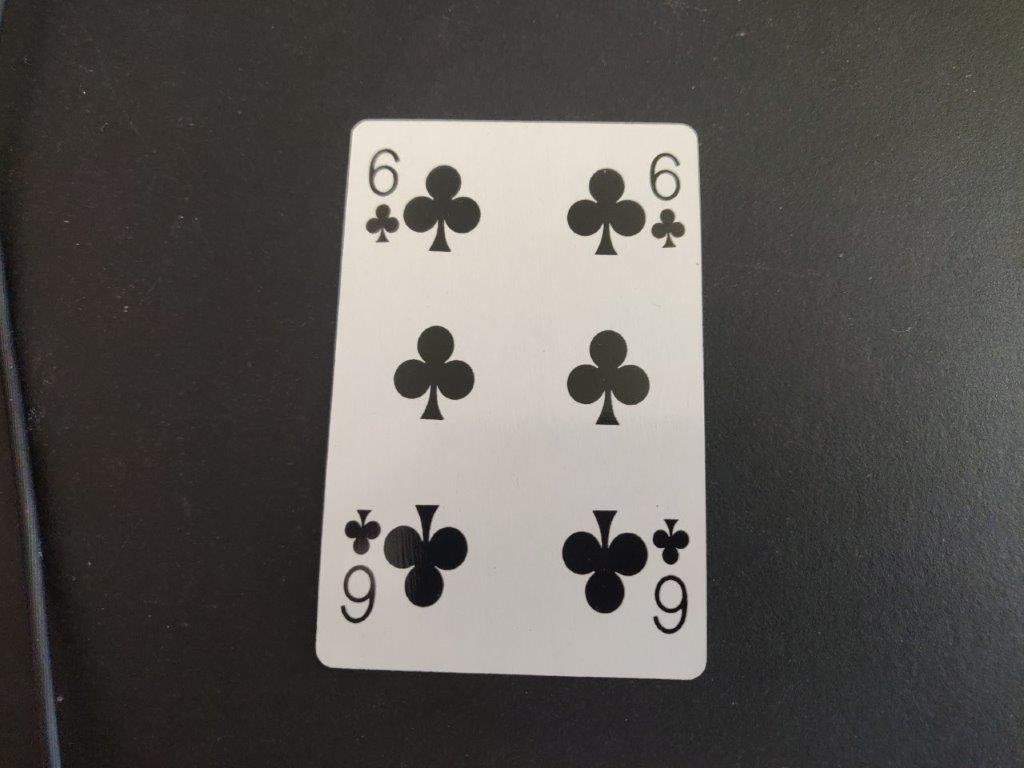6C: (646, 149, 692, 252), (362, 142, 402, 250)
